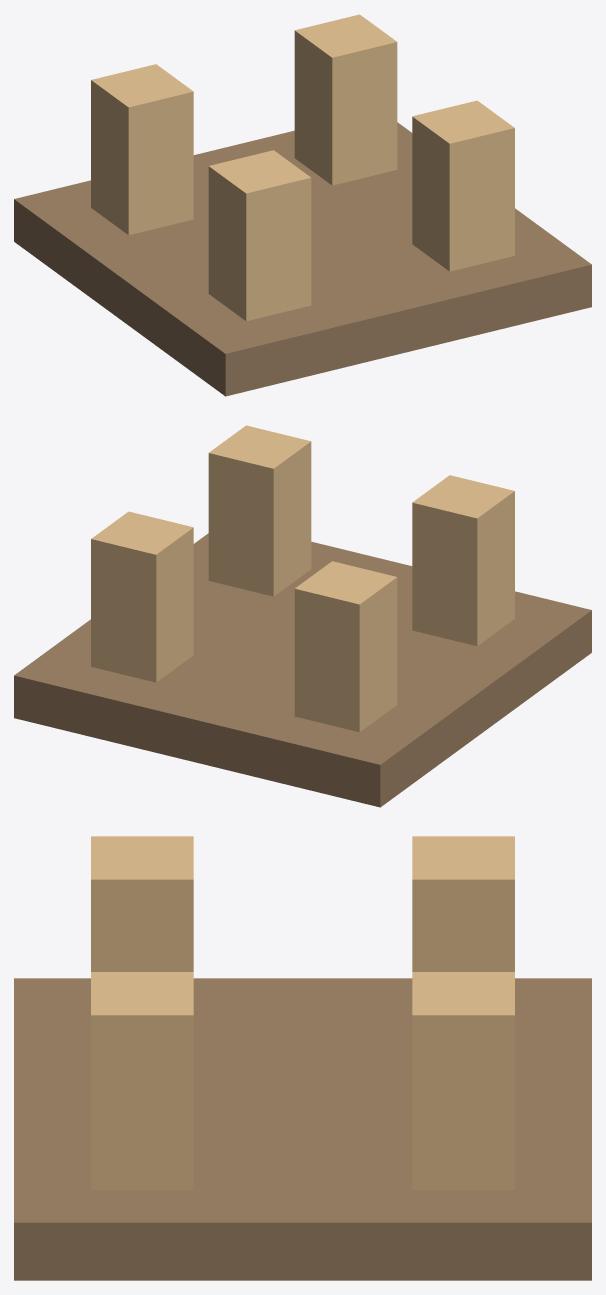
The model's file is Prop_DS_Crop_Bitroot_S2_V3.glb.
3 renders of one model, top to bottom at view 1: azimuth 30°, elevation 25°; view 2: azimuth 150°, elevation 25°; view 3: azimuth 270°, elevation 25°, orthographic. The views are drawn at different scales.
Parts seen in each view (by area): view 1: Prop_DS_Crop_Bitroot_S2_V3; view 2: Prop_DS_Crop_Bitroot_S2_V3; view 3: Prop_DS_Crop_Bitroot_S2_V3.
Boxes of the visible parts, bbox=[...] form: Prop_DS_Crop_Bitroot_S2_V3: bbox=[14, 14, 591, 396]; Prop_DS_Crop_Bitroot_S2_V3: bbox=[14, 425, 591, 807]; Prop_DS_Crop_Bitroot_S2_V3: bbox=[14, 836, 591, 1280].
Bounding box in the file's own units: 0.9 × 0.4 × 0.9.
